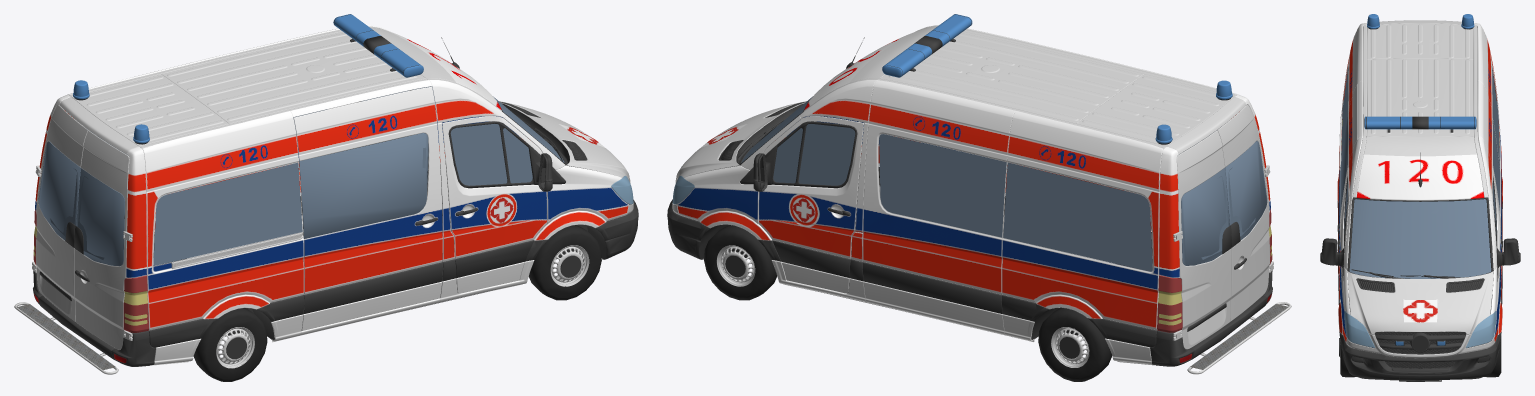
Rendered from AMBULANCE.glb.
3 views of the same model, side by side, from view 1: azimuth 30°, elevation 25°; view 2: azimuth 150°, elevation 25°; view 3: azimuth 270°, elevation 25° (orthographic). The views are drawn at different scales.
Visible parts, largest first — view 1: 14 - Default1.002, body; view 2: 14 - Default1.002, body; view 3: 14 - Default1.002, body.
Boxes of the visible parts, left/top/right/bottom form: 14 - Default1.002: left=14, top=14, right=638, bottom=381; body: left=32, top=26, right=633, bottom=349; 14 - Default1.002: left=667, top=14, right=1291, bottom=381; body: left=672, top=26, right=1273, bottom=349; 14 - Default1.002: left=1320, top=14, right=1520, bottom=381; body: left=1339, top=20, right=1494, bottom=358.
Bounding box in the file's own units: 5.41 × 2.42 × 2.17.
14 materials, 5 textured.
